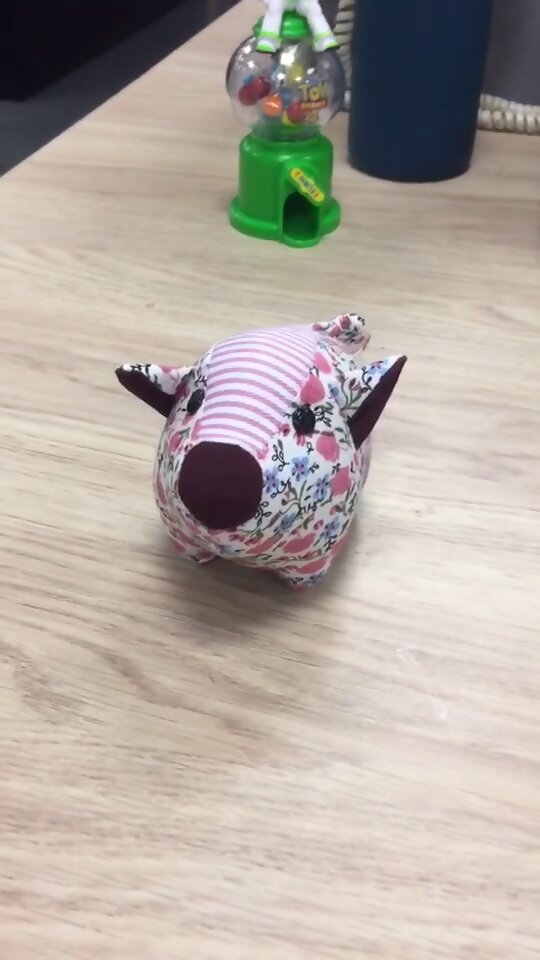pig: (112, 305, 412, 594)
